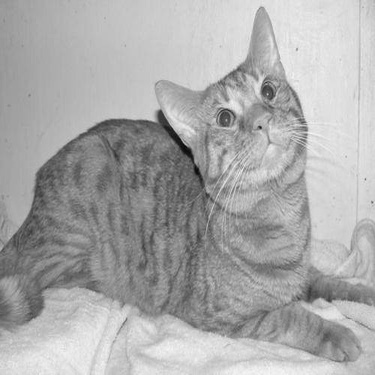cat: (5, 2, 371, 374)
